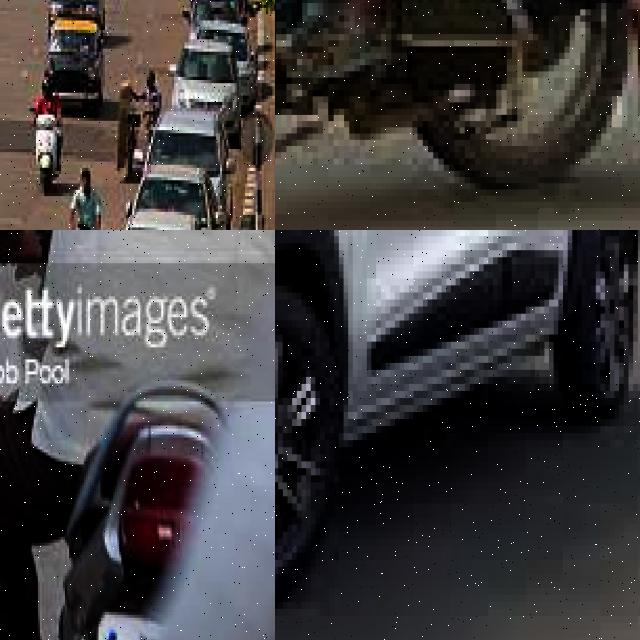bike: (275, 0, 640, 230), (30, 105, 63, 199)
car: (275, 230, 640, 588)
